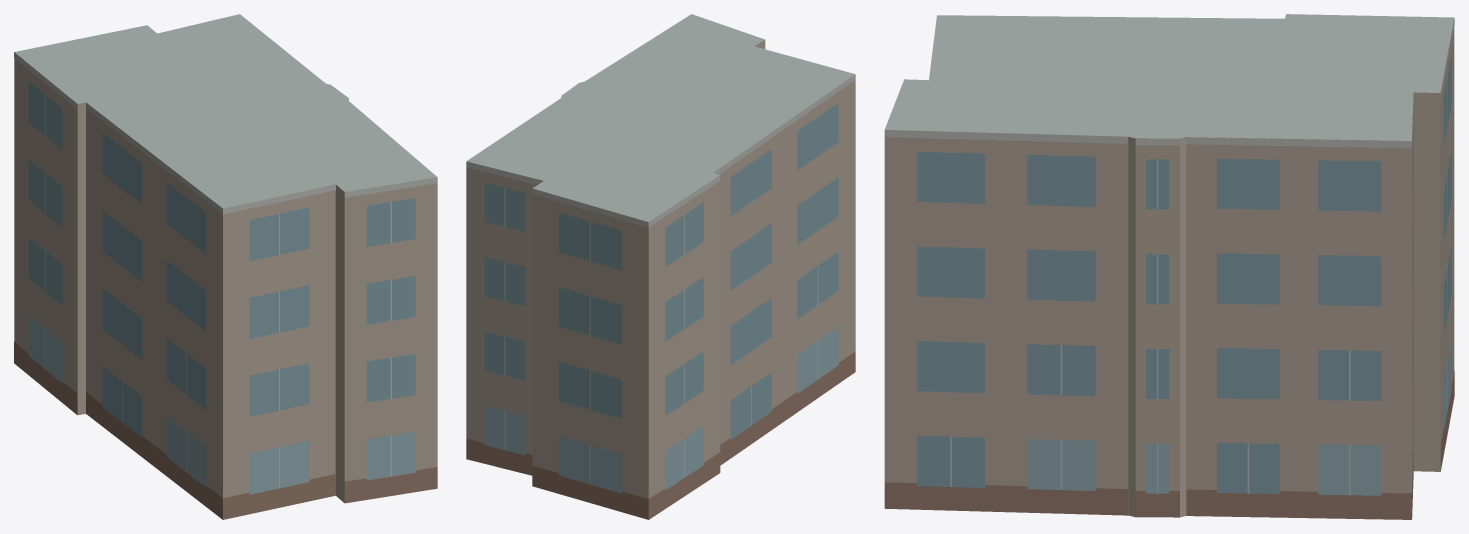
Rendered from survey-upis-32549585.glb.
3 views of the same model, side by side, from view 1: azimuth 30°, elevation 25°; view 2: azimuth 150°, elevation 25°; view 3: azimuth 270°, elevation 25° (orthographic). The views are drawn at different scales.
Visible parts, largest first — view 1: survey-upis-32549585.tmp; view 2: survey-upis-32549585.tmp; view 3: survey-upis-32549585.tmp.
Part boxes in pixels (<box>): survey-upis-32549585.tmp: <box>14,14,437,519</box>; survey-upis-32549585.tmp: <box>466,14,855,519</box>; survey-upis-32549585.tmp: <box>884,14,1454,519</box>.
Bounding box in the file's own units: 9.21 × 12.8 × 17.46.
